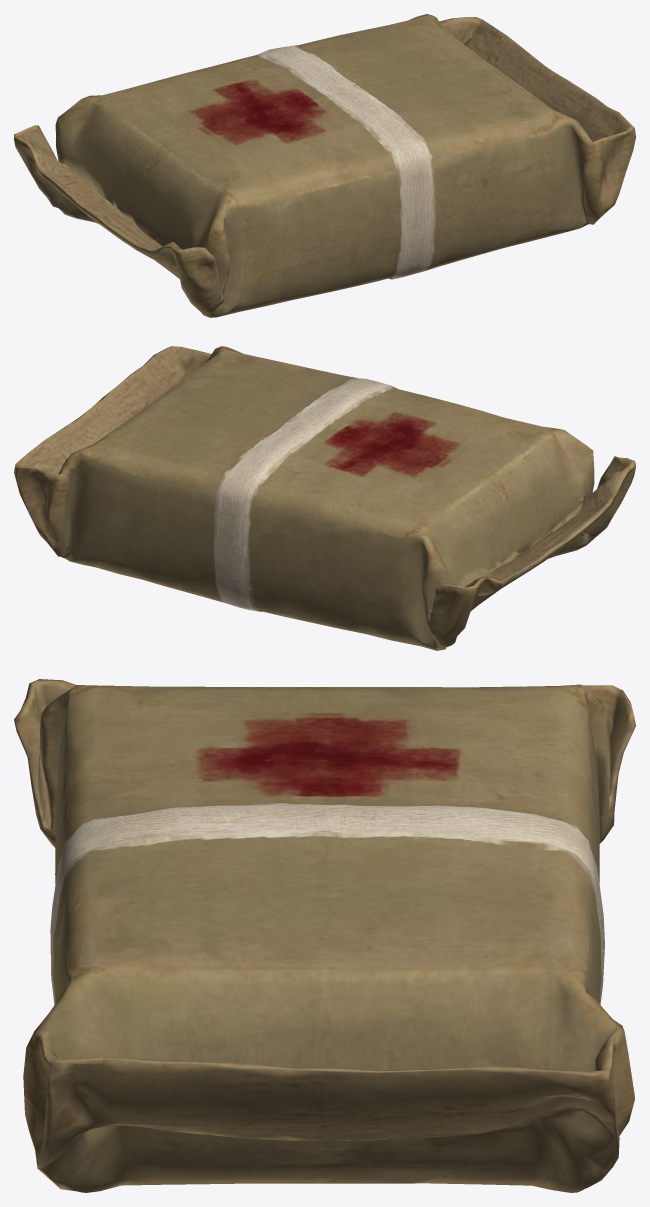
Rendered from dressing.glb.
3 renders of one model, top to bottom at view 1: azimuth 30°, elevation 25°; view 2: azimuth 150°, elevation 25°; view 3: azimuth 270°, elevation 25°, orthographic. The views are drawn at different scales.
Parts seen in each view (by area): view 1: Mesh_0; view 2: Mesh_0; view 3: Mesh_0.
Part boxes in pixels (left/top/right/bottom): Mesh_0: left=14, top=14, right=635, bottom=317; Mesh_0: left=14, top=346, right=635, bottom=650; Mesh_0: left=14, top=679, right=635, bottom=1192.
Size of the model in its own units: 0.9983 by 0.3093 by 0.6527.
Materials: 1 (1 with a texture image).
